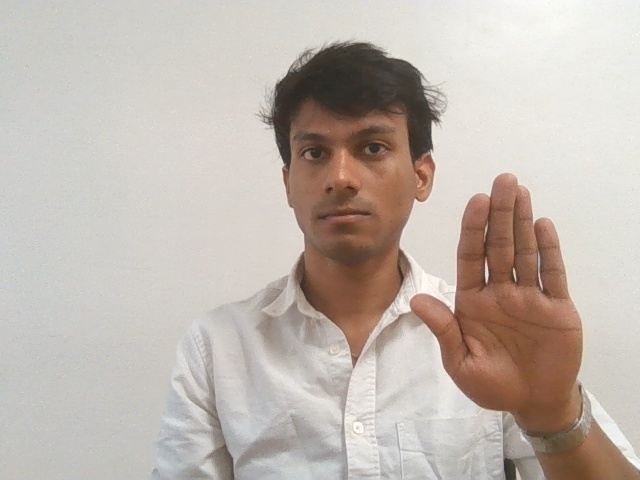Hello: (404, 173, 590, 434)
